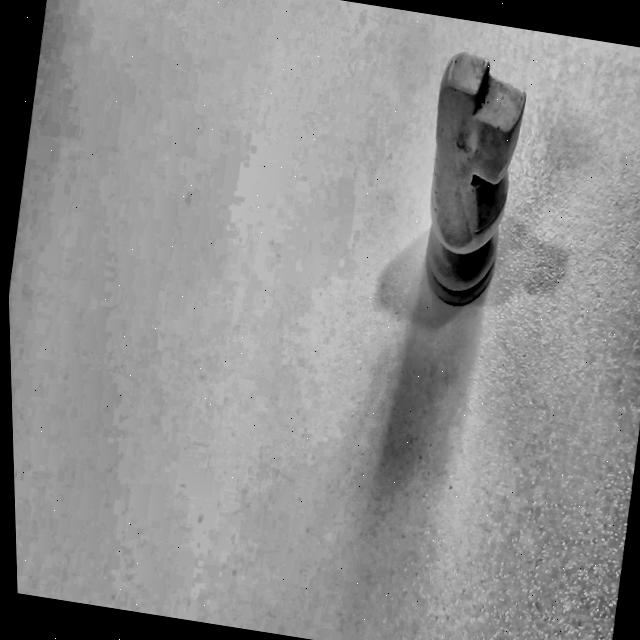white-knight: (373, 36, 574, 326)
